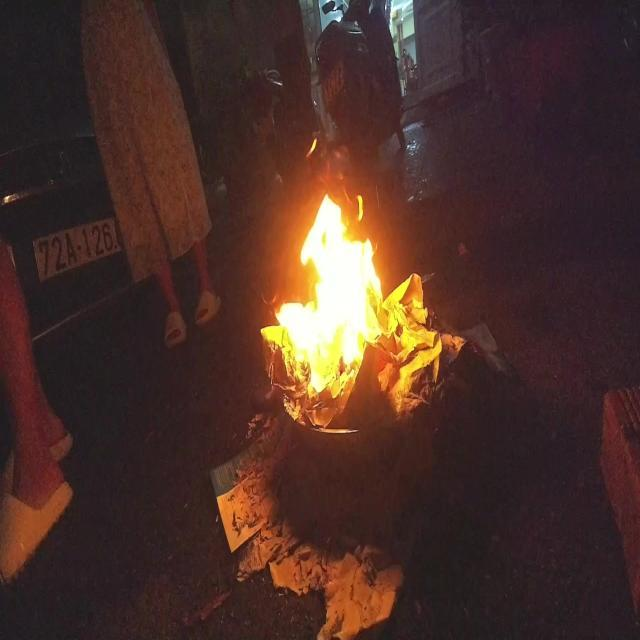Fire: (258, 194, 442, 428)
